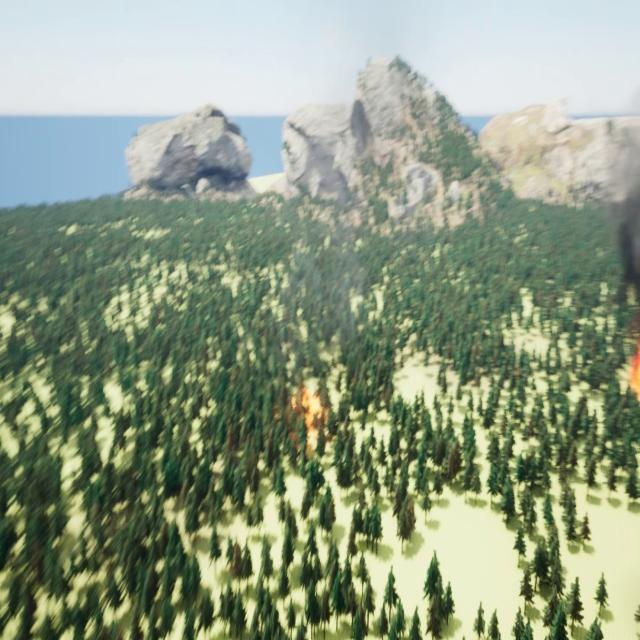fire: (280, 384, 328, 462), (630, 342, 640, 402)
smoke: (606, 136, 640, 299)
